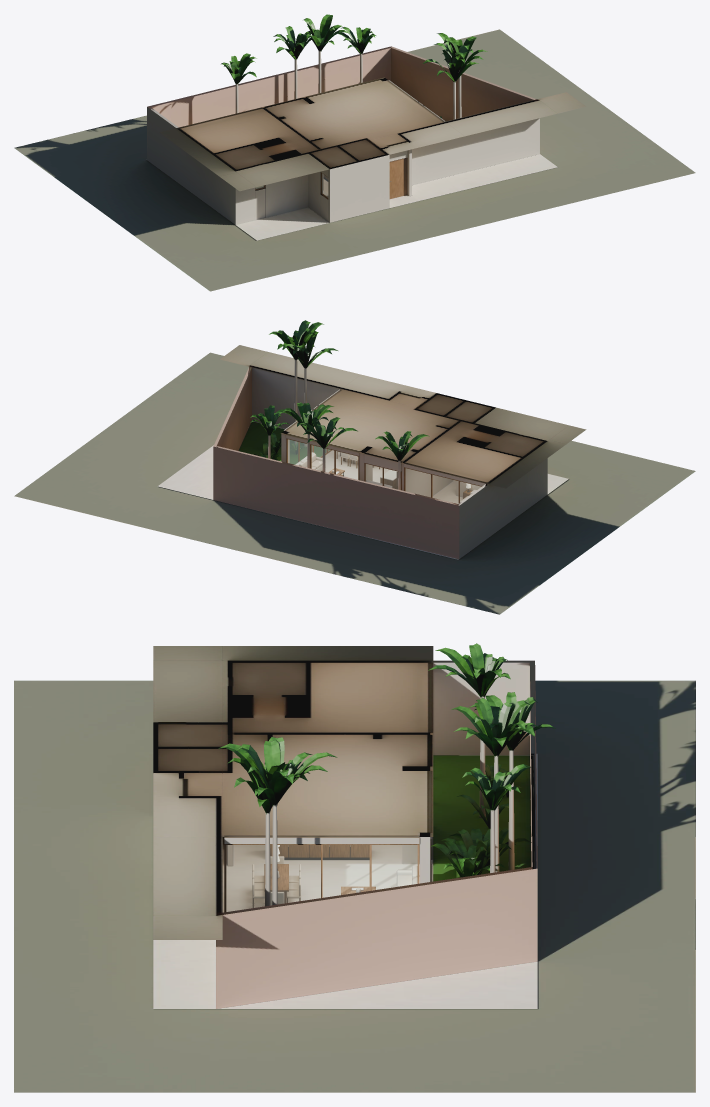
The picture shows the model from 3 angles, top to bottom: view 1: azimuth 30°, elevation 25°; view 2: azimuth 150°, elevation 25°; view 3: azimuth 270°, elevation 25°; orthographic projection. The views are drawn at different scales.
Visible parts, largest first — view 1: D4_piso, D4_muros, D4_muebles, D4_carp; view 2: D4_piso, D4_muros, D4_muebles, D4_vidrio, D4_carp; view 3: D4_piso, D4_muros, D4_muebles, D4_vidrio, D4_carp.
Boxes of the visible parts, x1,y1,x2,y2 form: D4_piso: (14, 29, 695, 291); D4_muros: (147, 46, 585, 224); D4_muebles: (221, 14, 487, 196); D4_carp: (255, 157, 407, 198); D4_piso: (14, 352, 695, 614); D4_muros: (213, 345, 586, 559); D4_muebles: (250, 320, 481, 503); D4_vidrio: (288, 440, 480, 503); D4_carp: (286, 438, 481, 503); D4_piso: (14, 680, 695, 1092); D4_muros: (153, 646, 537, 1008); D4_muebles: (218, 643, 555, 906); D4_vidrio: (226, 845, 417, 911); D4_carp: (224, 839, 430, 912).
Bounding box in the file's own units: 28 × 6.6 × 19.59.
Materials: 5 (4 with a texture image).
